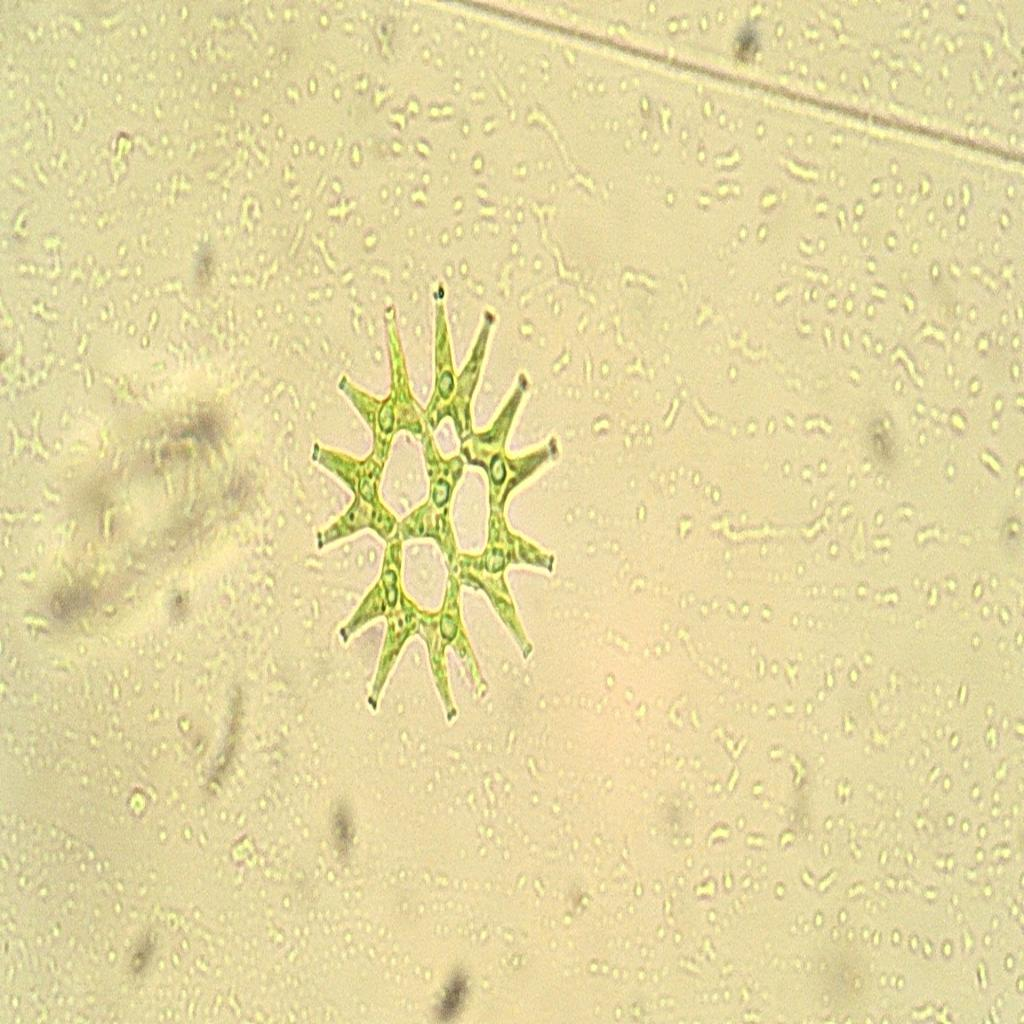Pediastrum_CTH: (297, 268, 587, 750)
